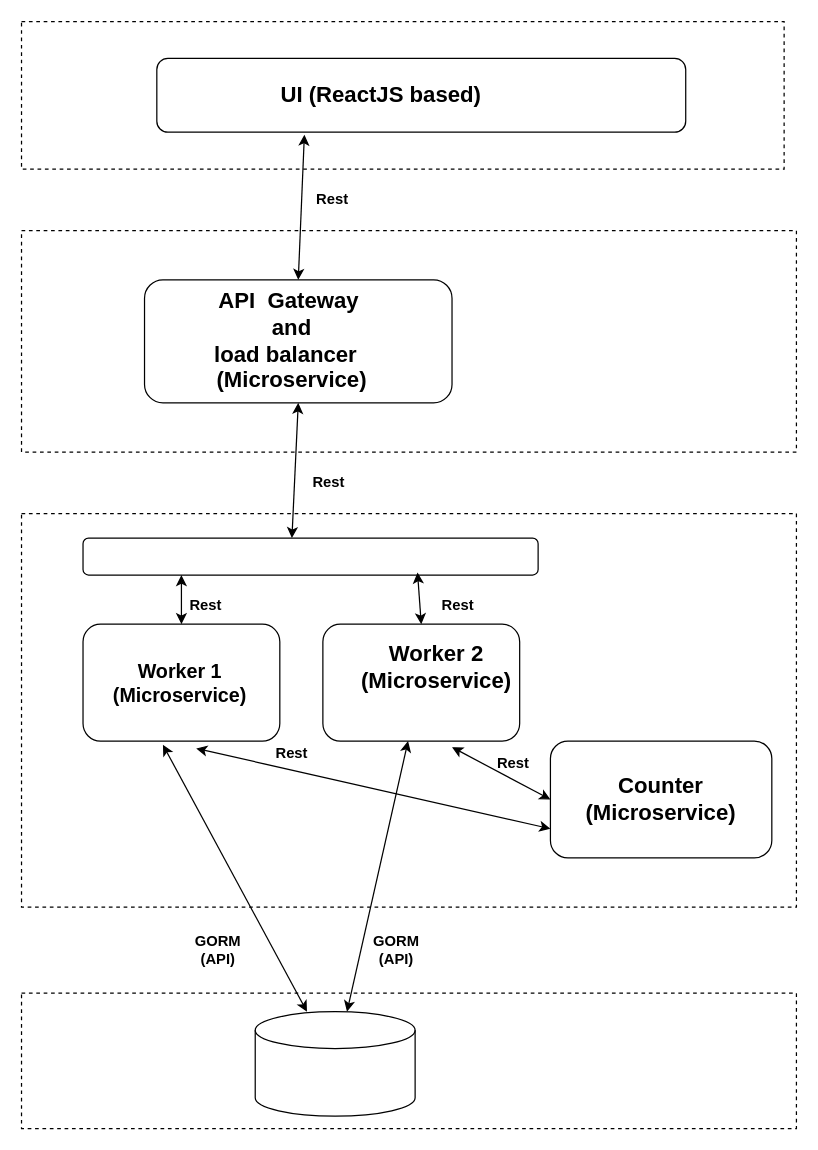
Image size: 818x1150. Some labels were removed from this diagram. Here are the shapes that lost their labels. From the top down, the centre of each, then its label:
At (x=310, y=556): "Interaction b/w API gateway and worker services using HTTP".
At (x=334, y=1063): "DB (MySQL)".
